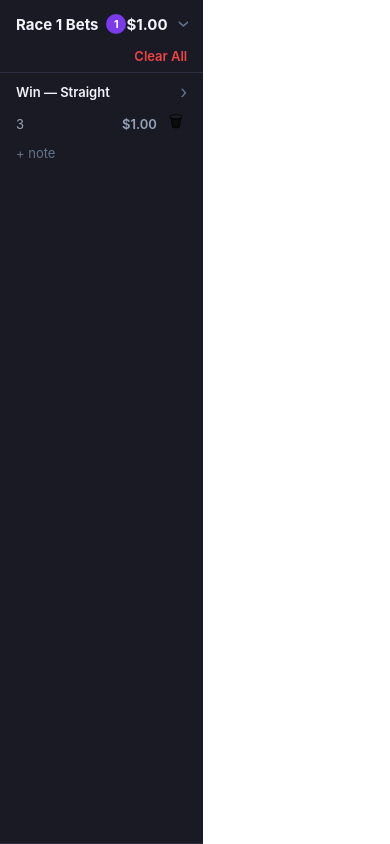
Test: BetHistory › collapses body on header press
Click the text "Race 1 Bets". click: [57, 24]
box: [16, 14, 98, 34]
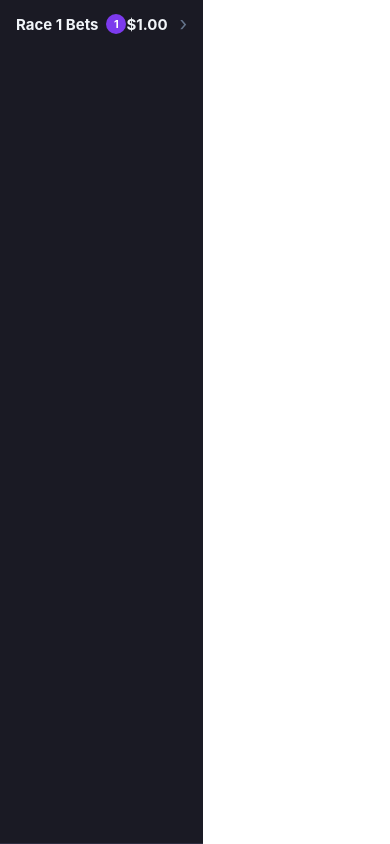
Check: the text "Clear All" is gone
